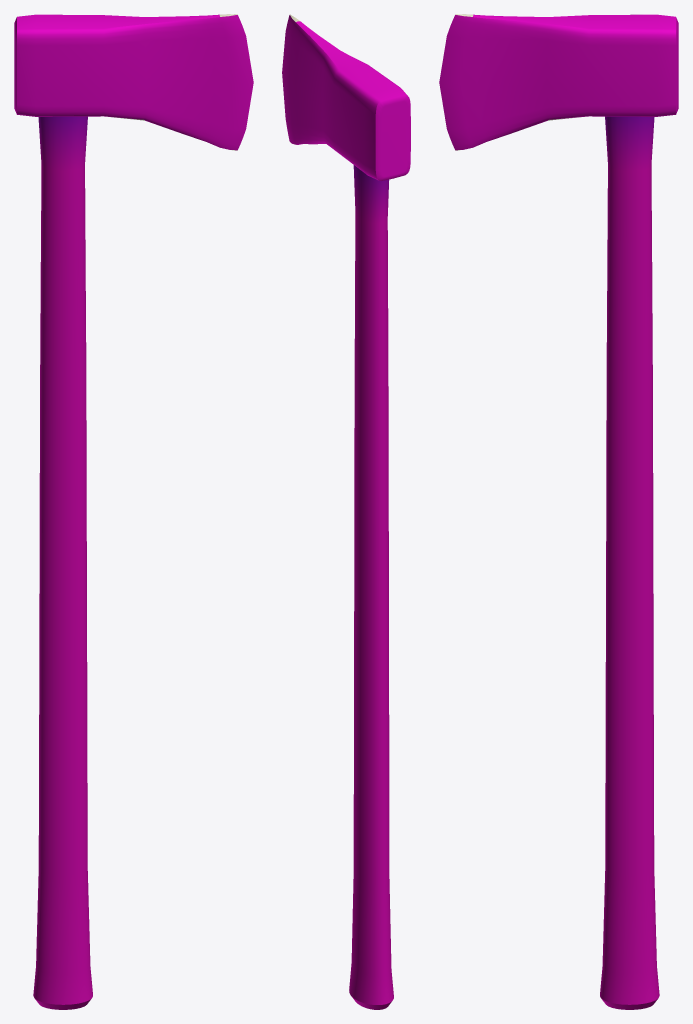
Rendered from axe.glb.
3 renders of one model, left to right at view 1: azimuth 90°, elevation 25°; view 2: azimuth 210°, elevation 25°; view 3: azimuth 270°, elevation 25°, orthographic. The views are drawn at different scales.
Parts seen in each view (by area): view 1: axe; view 2: axe; view 3: axe.
Part boxes in pixels (bbox=[...]): axe: bbox=[14, 14, 253, 1009]; axe: bbox=[282, 14, 410, 1009]; axe: bbox=[439, 14, 678, 1009].
Bounding box in the file's own units: 0.036 × 0.802 × 0.176.
